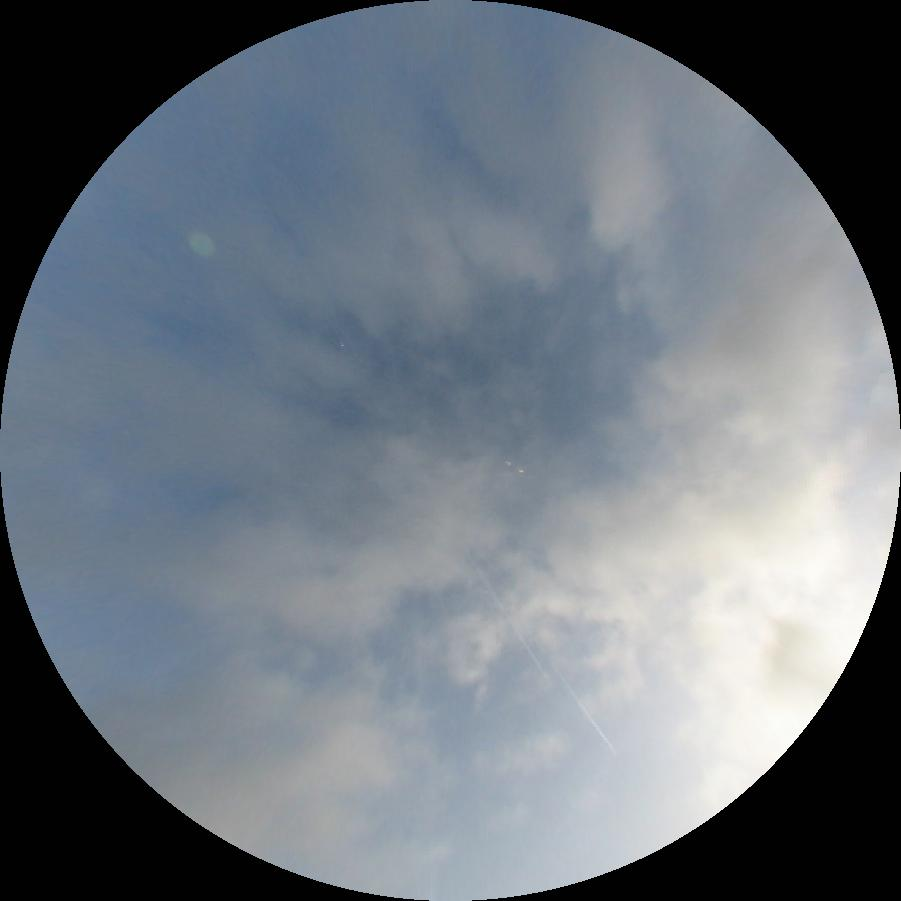contrail young: (466, 552, 548, 679), (536, 642, 619, 755)
